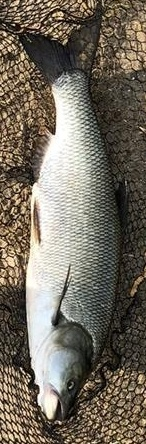Aspius aspius: (20, 20, 126, 424)
